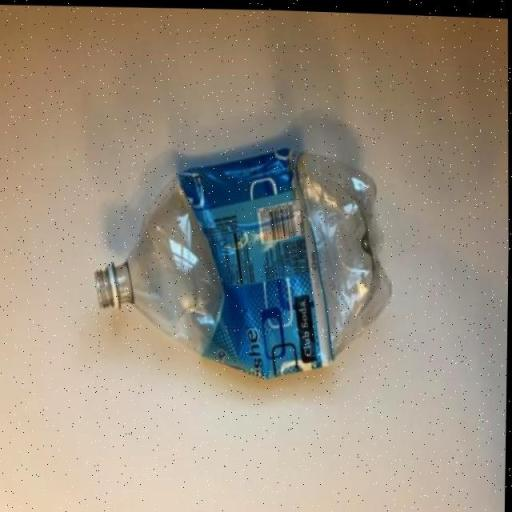plastic: (92, 136, 390, 384)
